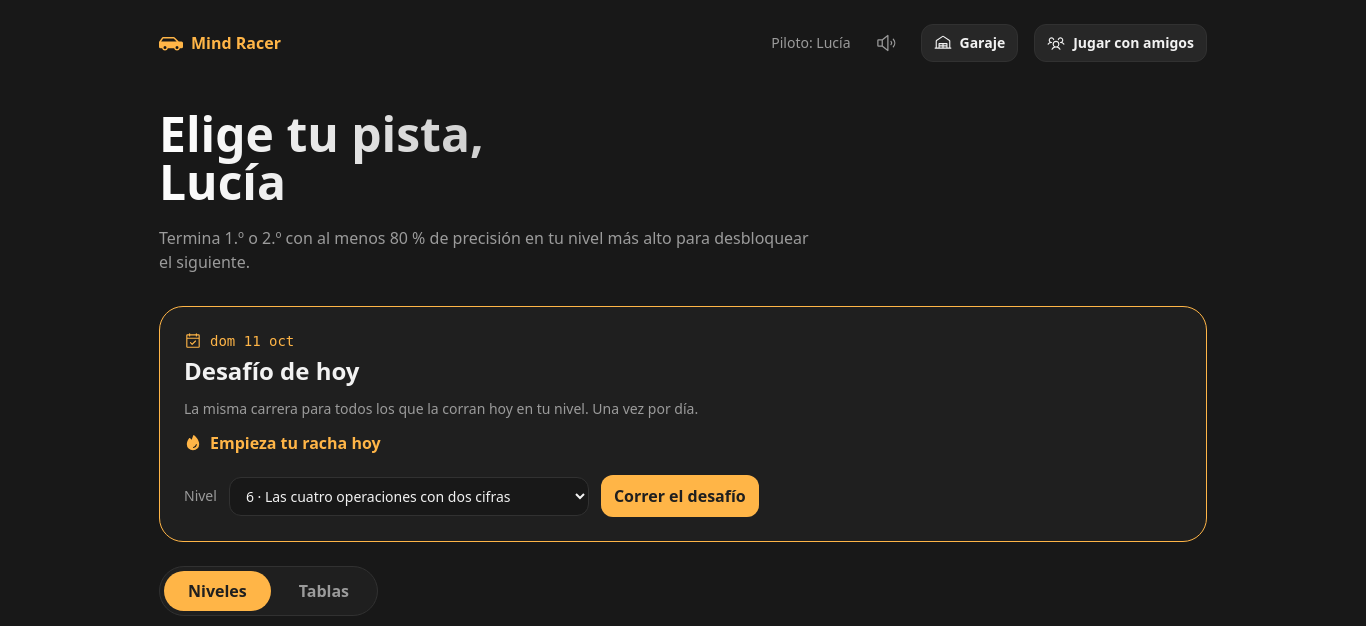
desafío de hoy en el menú › en otro nivel corre la carrera del día de ese nivel, sin adaptación (Elegir un nivel más bajo)
Select "3 · Sumas y restas hasta dos cifras sin llevar" in the dropdown labelled "Nivel": (409, 496) [229, 476, 589, 516]
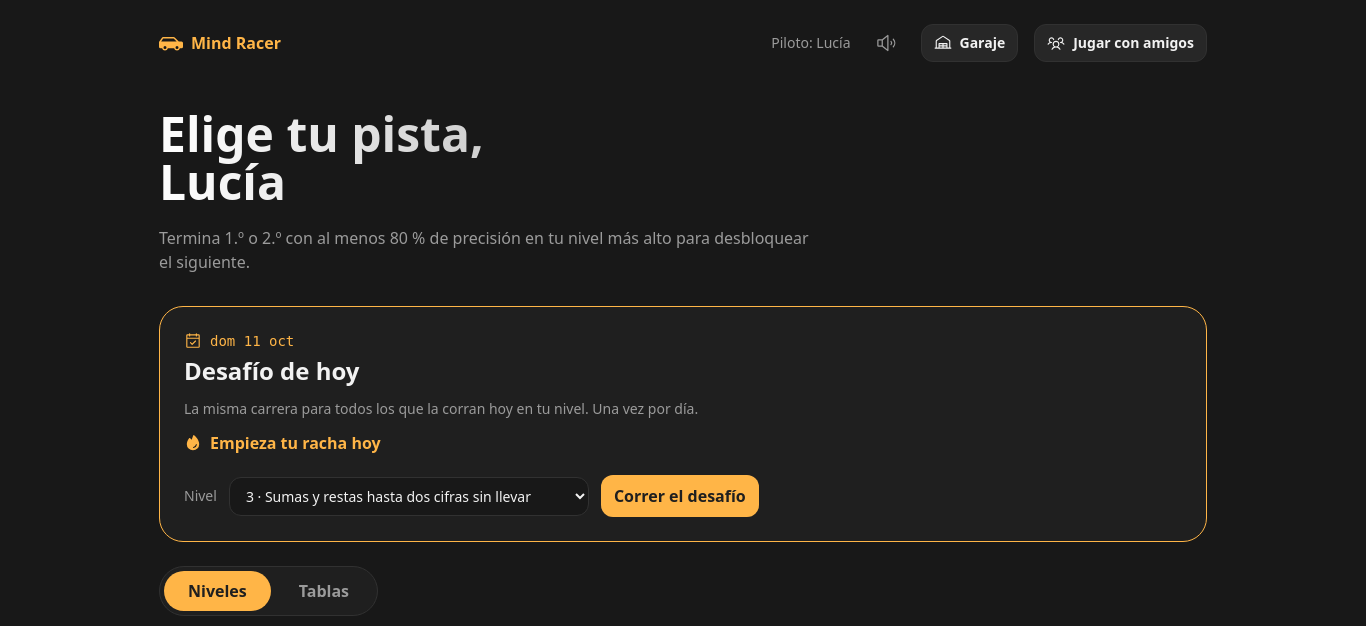
Click the button "Correr el desafío": (680, 496) [601, 475, 759, 517]
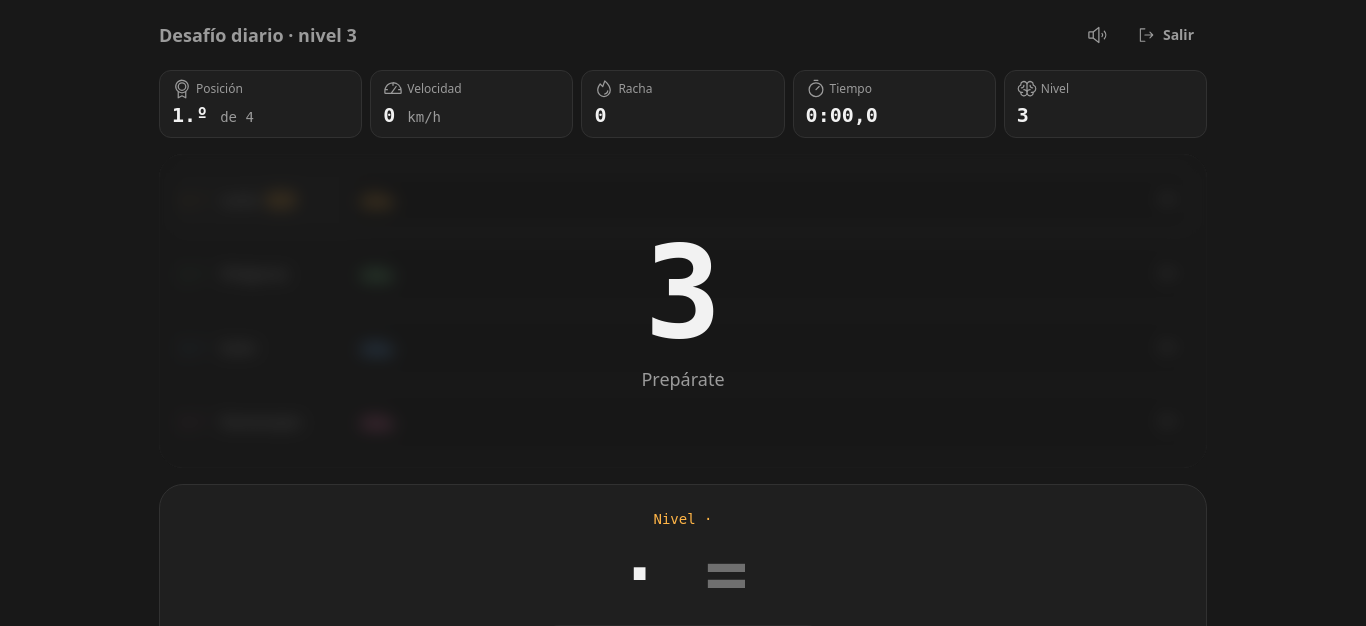
Check: the heading "Desafío diario · nivel 3" is shown, box [159, 21, 357, 49]
